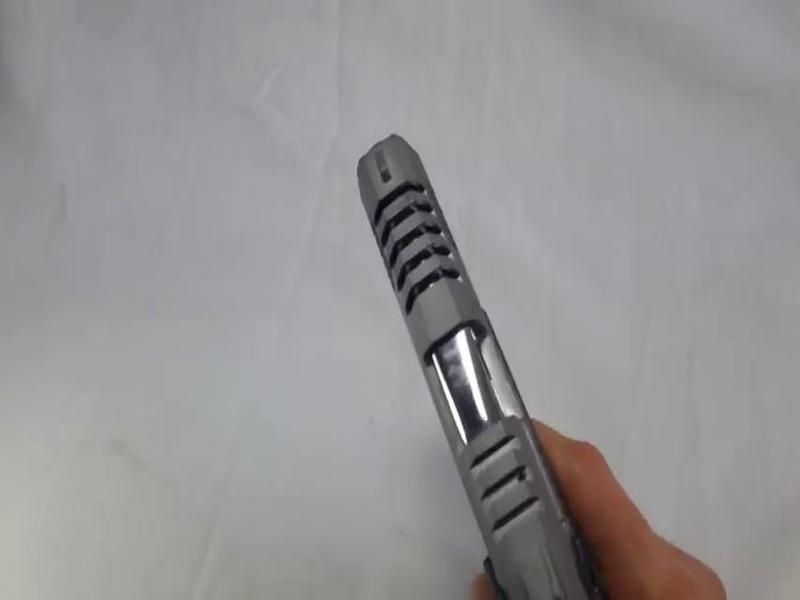Pistola: (311, 121, 614, 598)
